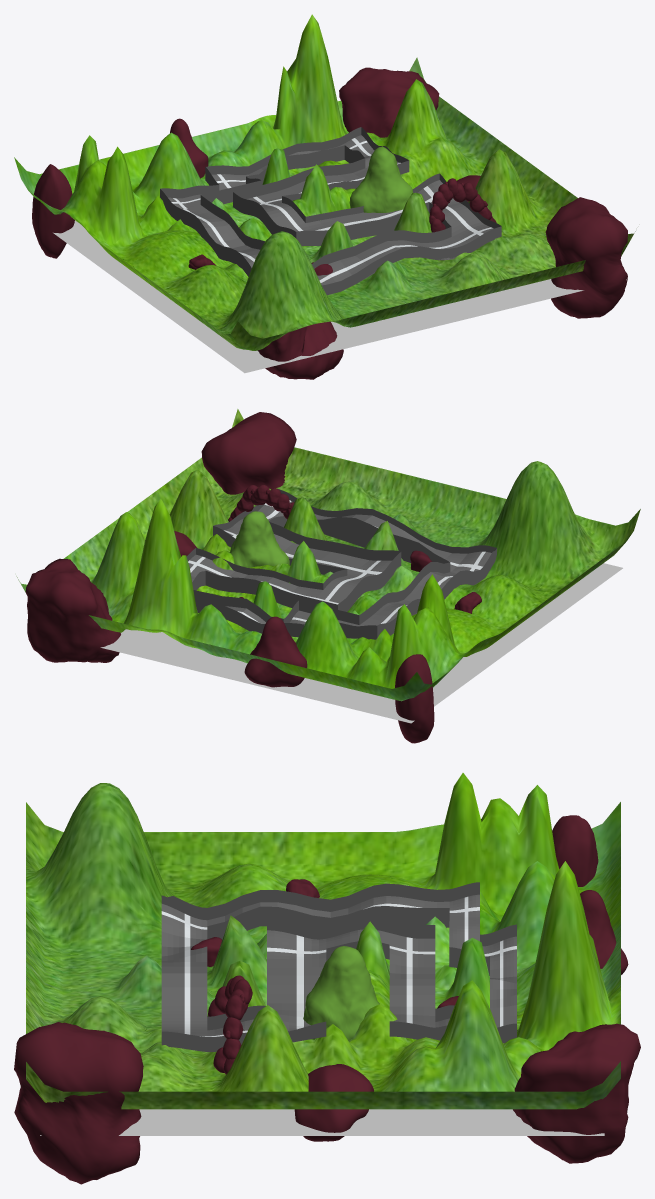
File: track2.fbx
3 renders of one model, top to bottom at view 1: azimuth 30°, elevation 25°; view 2: azimuth 150°, elevation 25°; view 3: azimuth 270°, elevation 25°, orthographic. The views are drawn at different scales.
Visible parts, largest first — view 1: rock.001; view 2: rock.001; view 3: rock.001.
Boxes of the visible parts, left/top/right/bottom form: rock.001: left=14, top=14, right=635, bottom=379; rock.001: left=16, top=409, right=640, bottom=743; rock.001: left=14, top=773, right=640, bottom=1184.
Bounding box in the file's own units: 200 × 88.81 × 200.
